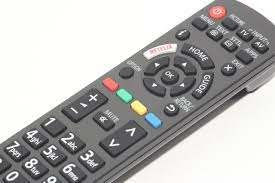remote control: (1, 1, 275, 183)
